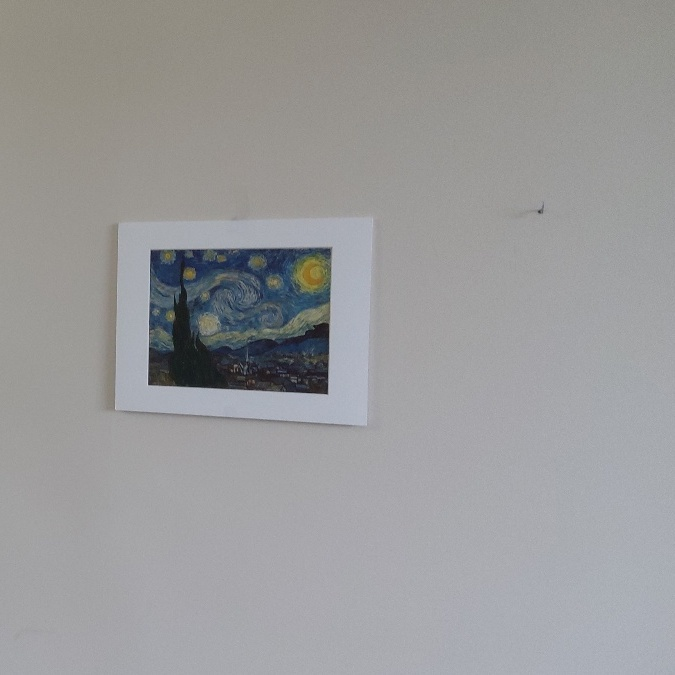painting: (141, 238, 339, 400)
